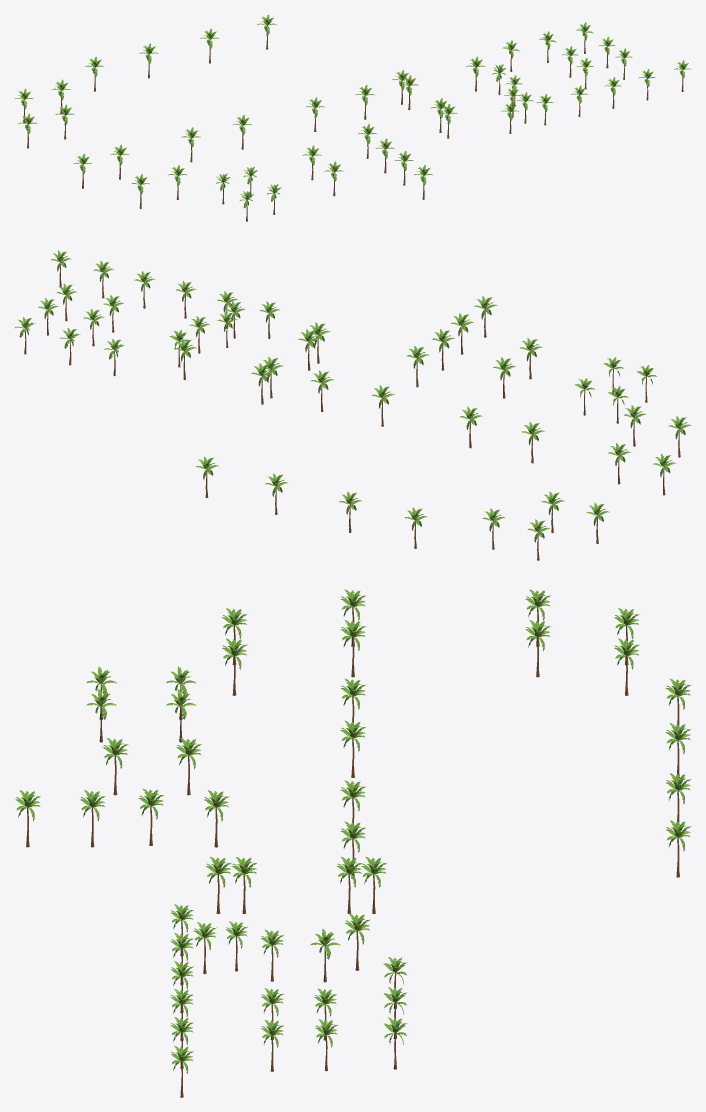
Rendered from nature_trees_large_full.glb.
The picture shows the model from 3 angles, top to bottom: view 1: azimuth 30°, elevation 25°; view 2: azimuth 150°, elevation 25°; view 3: azimuth 270°, elevation 25°; orthographic projection. The views are drawn at different scales.
Size of the model in its own units: 230 by 12.54 by 143.
